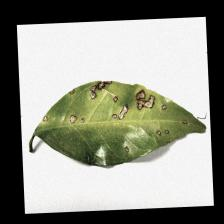canker: (65, 71, 172, 149)
